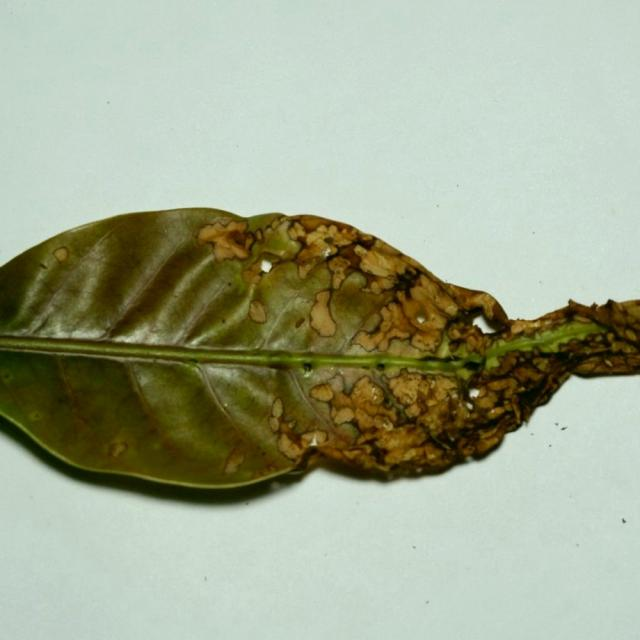Anthracnose: (434, 288, 500, 358), (393, 391, 455, 448), (370, 277, 411, 350), (295, 287, 341, 346), (579, 318, 627, 373), (484, 362, 531, 411), (323, 426, 387, 460), (304, 231, 359, 268), (298, 379, 351, 412)
Mango: (0, 207, 639, 499)
